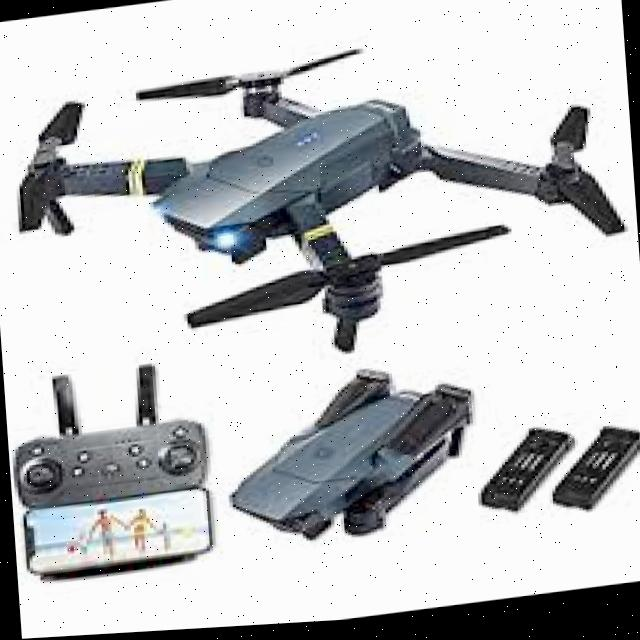drone: (0, 3, 640, 404)
